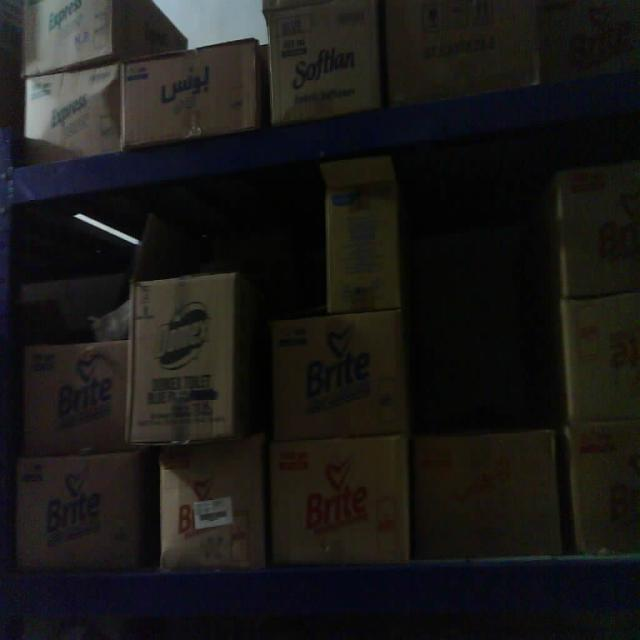box: (406, 427, 558, 561), (128, 274, 240, 442), (267, 435, 409, 560), (268, 316, 409, 433), (119, 35, 261, 151), (157, 429, 264, 567), (18, 454, 141, 564), (270, 0, 379, 119), (25, 342, 134, 451), (326, 174, 402, 314), (557, 164, 640, 291), (559, 298, 640, 419), (565, 423, 640, 550), (26, 60, 119, 160), (23, 0, 114, 75)
